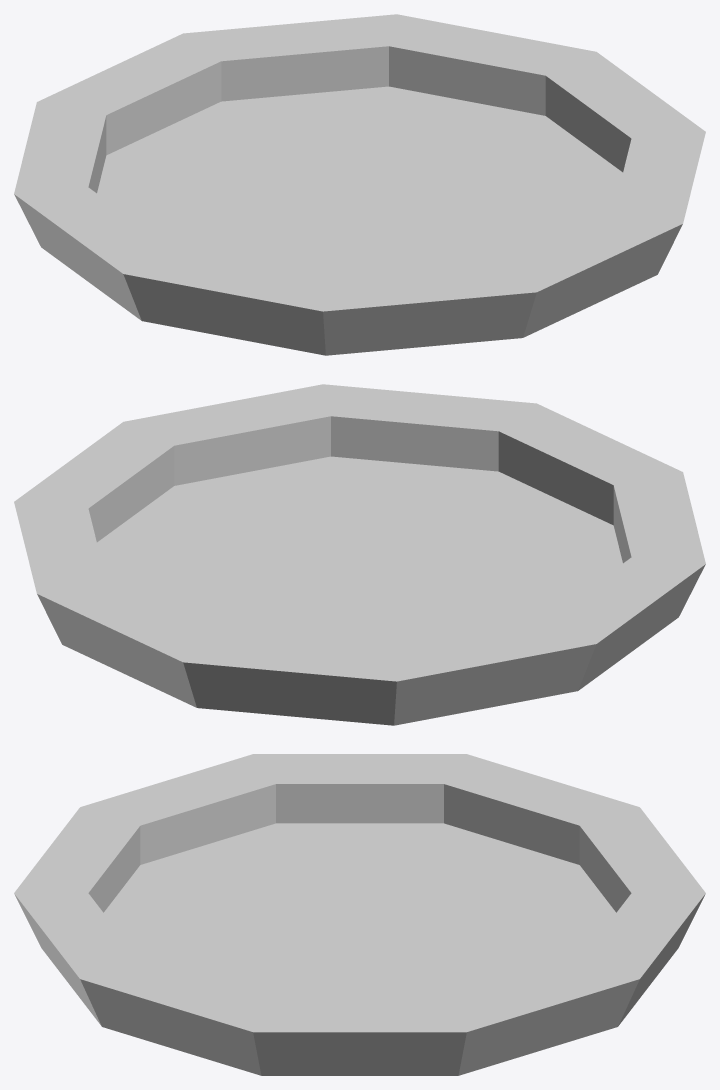
File: plate.obj
3 renders of one model, top to bottom at view 1: azimuth 30°, elevation 25°; view 2: azimuth 150°, elevation 25°; view 3: azimuth 270°, elevation 25°, orthographic. The views are drawn at different scales.
Visible parts, largest first — view 1: plate; view 2: plate; view 3: plate.
Boxes of the visible parts, x1=… form: plate: x1=14, y1=14, x2=705, y2=355; plate: x1=14, y1=384, x2=705, y2=725; plate: x1=14, y1=754, x2=705, y2=1075.
Bounding box in the file's own units: 0.224 × 0.0205 × 0.2355.
